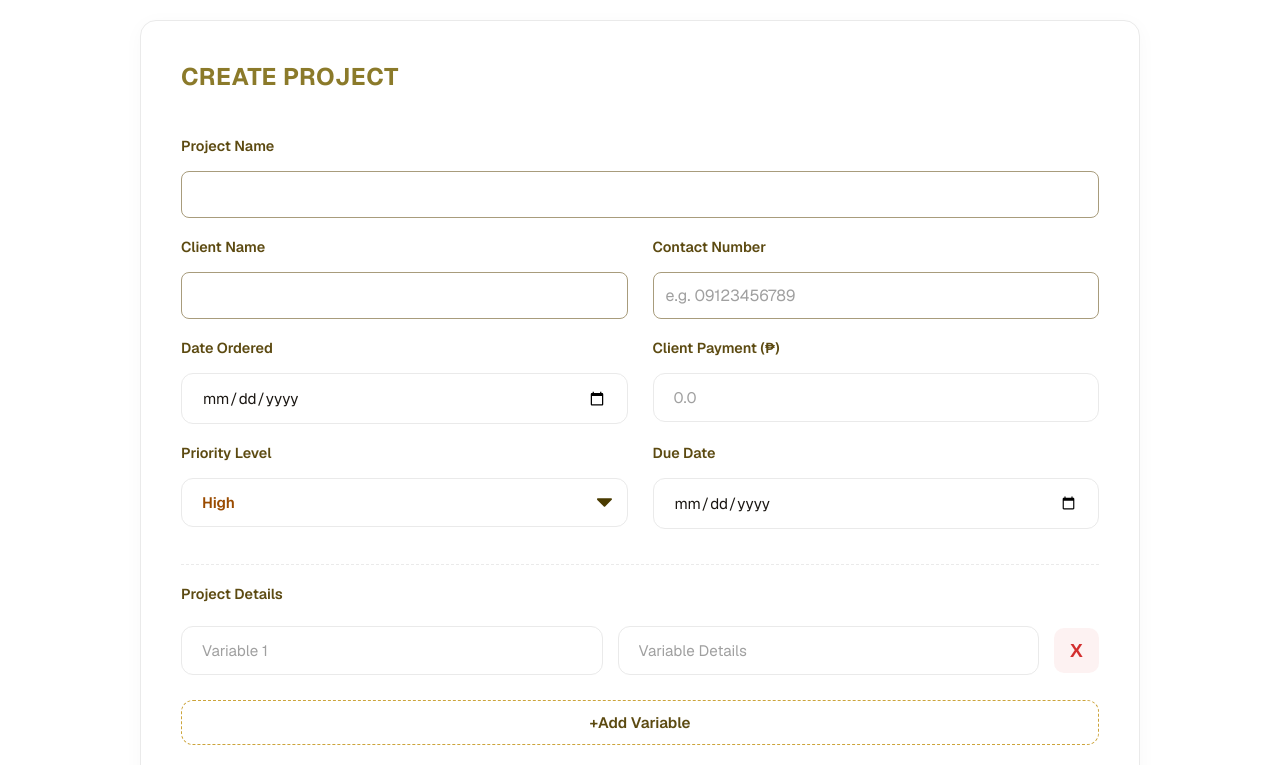
CreateProjectForm › adds a variable row, and disables remove at the last row
Expected: the number of elements with class "dynamic-row" is 1, 181,626 -> 1099,675
Expected: the button with class "btn-remove" is disabled, 1054,628 -> 1099,673
Click the button "+Add Variable" at [640, 722], box 181,700 -> 1099,745
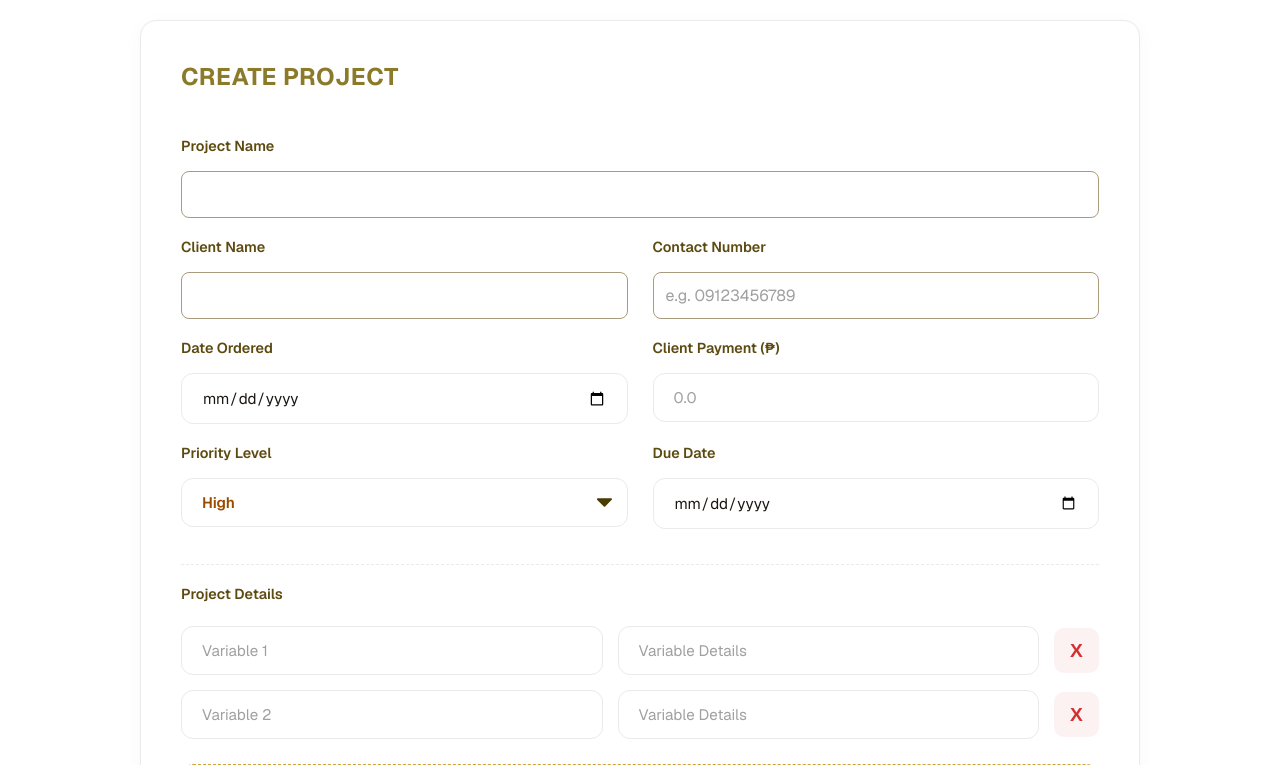
Expected: the 1st button with class "btn-remove" is enabled, 1054,628 -> 1099,673
Now the number of elements with class "dynamic-row" is 2, box 181,626 -> 1099,675; 181,690 -> 1099,739
